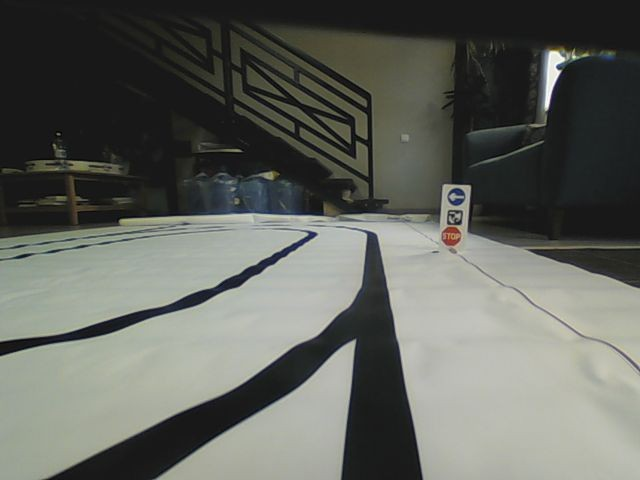Stop: (441, 227, 462, 247)
